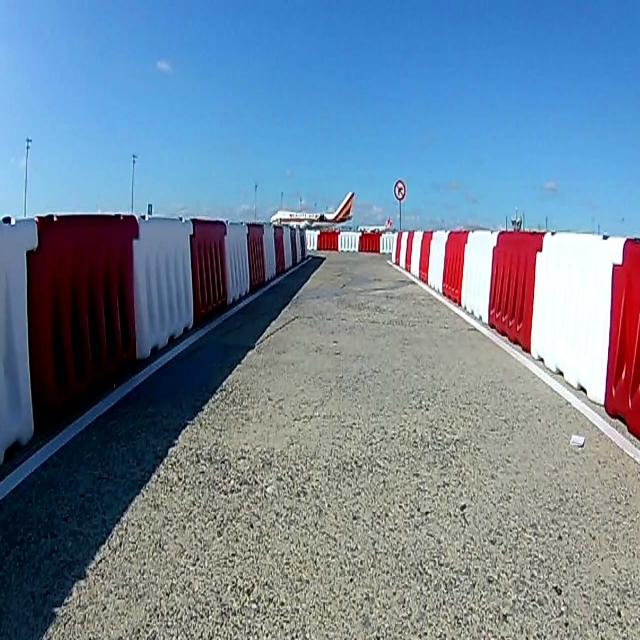sagadonulmez: (394, 179, 406, 201)
